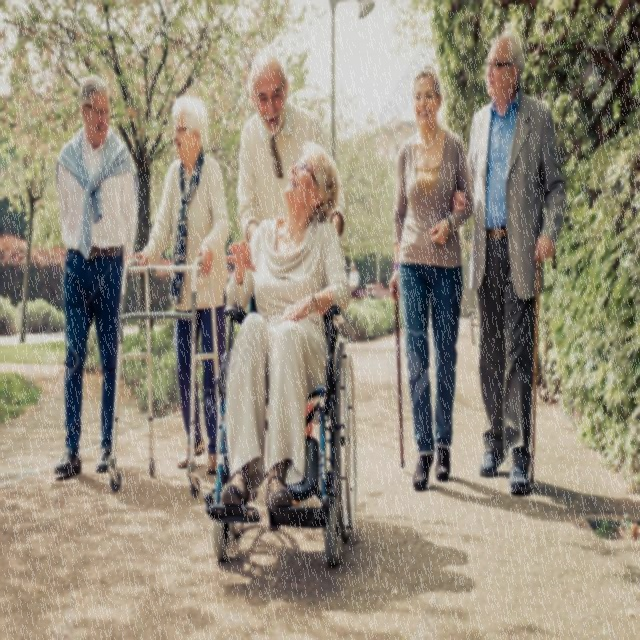pessoa: (448, 23, 569, 499), (236, 48, 350, 508), (220, 137, 352, 514), (386, 61, 476, 496), (130, 93, 231, 476), (51, 70, 140, 478), (348, 260, 360, 300)
